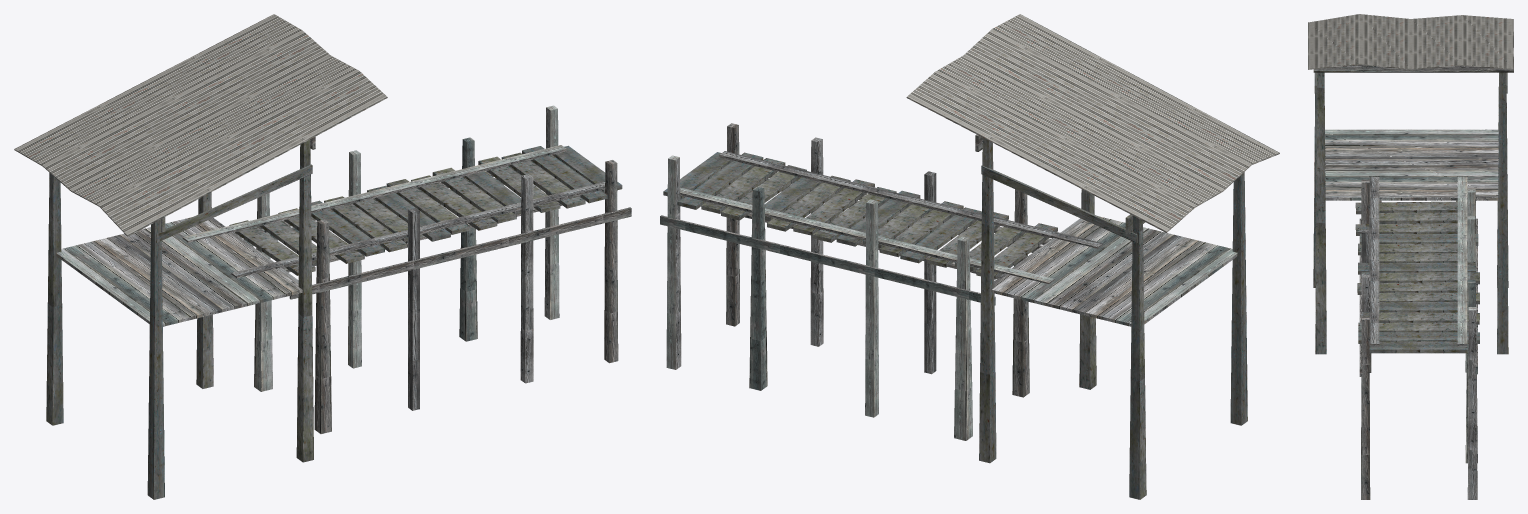
Rendered from covered-jetty.glb.
3 renders of one model, left to right at view 1: azimuth 30°, elevation 25°; view 2: azimuth 150°, elevation 25°; view 3: azimuth 270°, elevation 25°, orthographic. The views are drawn at different scales.
Visible parts, largest first — view 1: $ColladaAutoName$_0; view 2: $ColladaAutoName$_0; view 3: $ColladaAutoName$_0.
Part boxes in pixels (x1,y1,x2,y2): $ColladaAutoName$_0: (14, 14, 631, 499); $ColladaAutoName$_0: (660, 14, 1279, 499); $ColladaAutoName$_0: (1308, 14, 1513, 499).
Bounding box in the file's own units: 16.89 × 10.74 × 6.24.
Materials: 3 (3 with a texture image).
